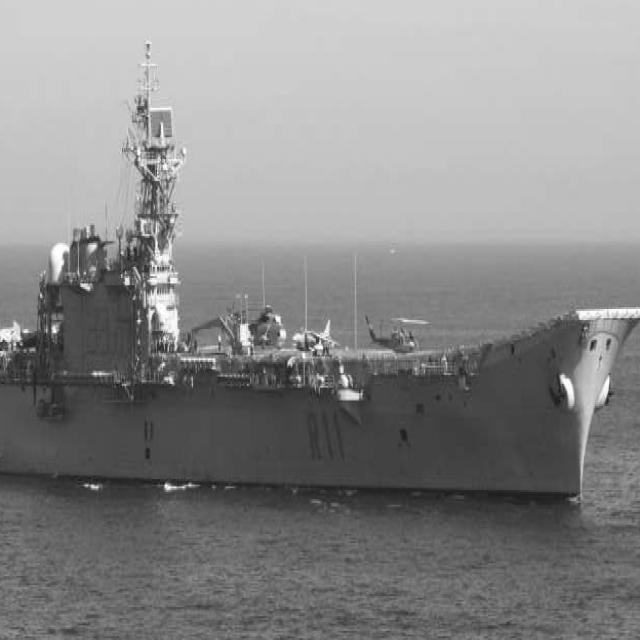Portanaves: (1, 10, 640, 517)
